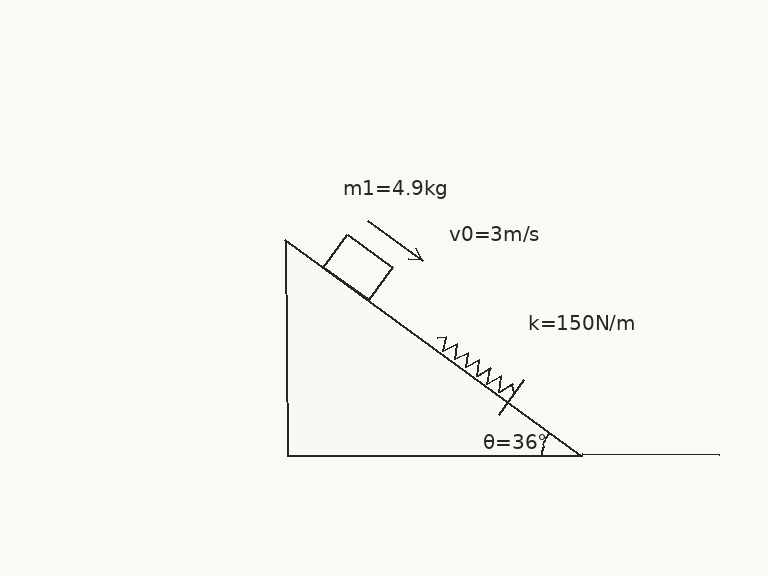block: (321, 232, 394, 302)
ramp: (284, 238, 584, 457)
spring: (434, 334, 515, 396)
